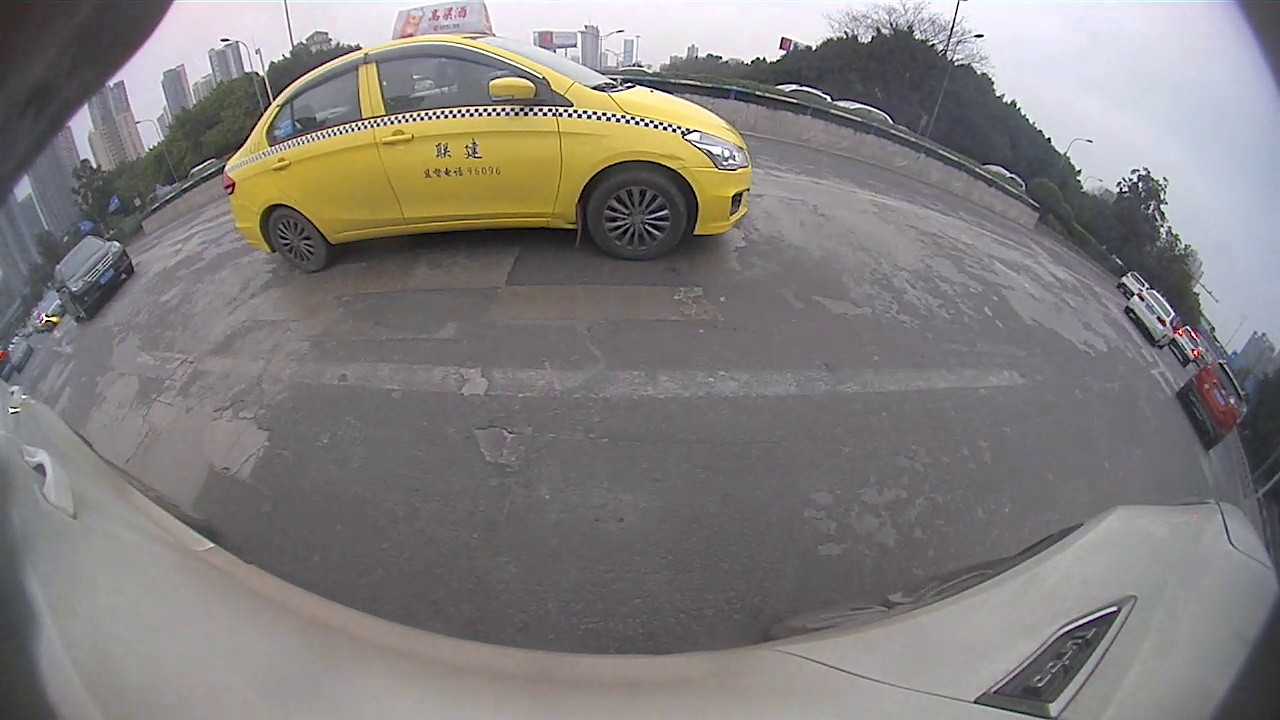car: (224, 1, 752, 271), (50, 237, 133, 323), (1177, 360, 1249, 450), (1124, 290, 1177, 346), (1168, 325, 1206, 366), (36, 288, 66, 332)
front: (586, 167, 690, 261)
rear: (267, 209, 329, 273)
